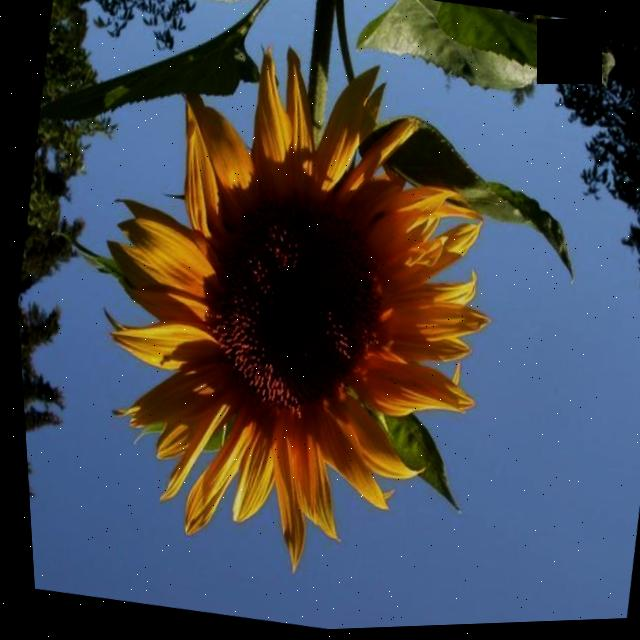sunflower: (31, 0, 584, 634)
